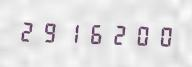nine: (39, 18, 60, 45)
one: (61, 18, 82, 46)
six: (83, 19, 104, 47)
two: (105, 20, 126, 48), (17, 17, 38, 44)
zero: (149, 21, 170, 49), (127, 21, 148, 48)
